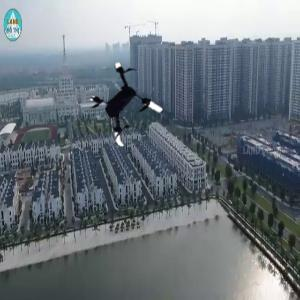drone: (85, 63, 173, 151)
